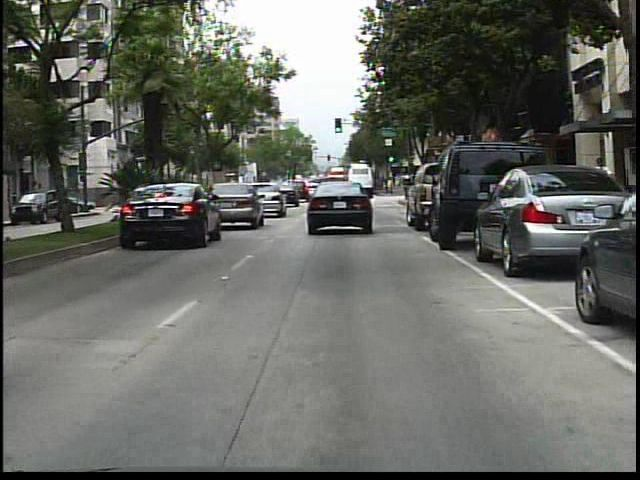person: (587, 153, 615, 224)
